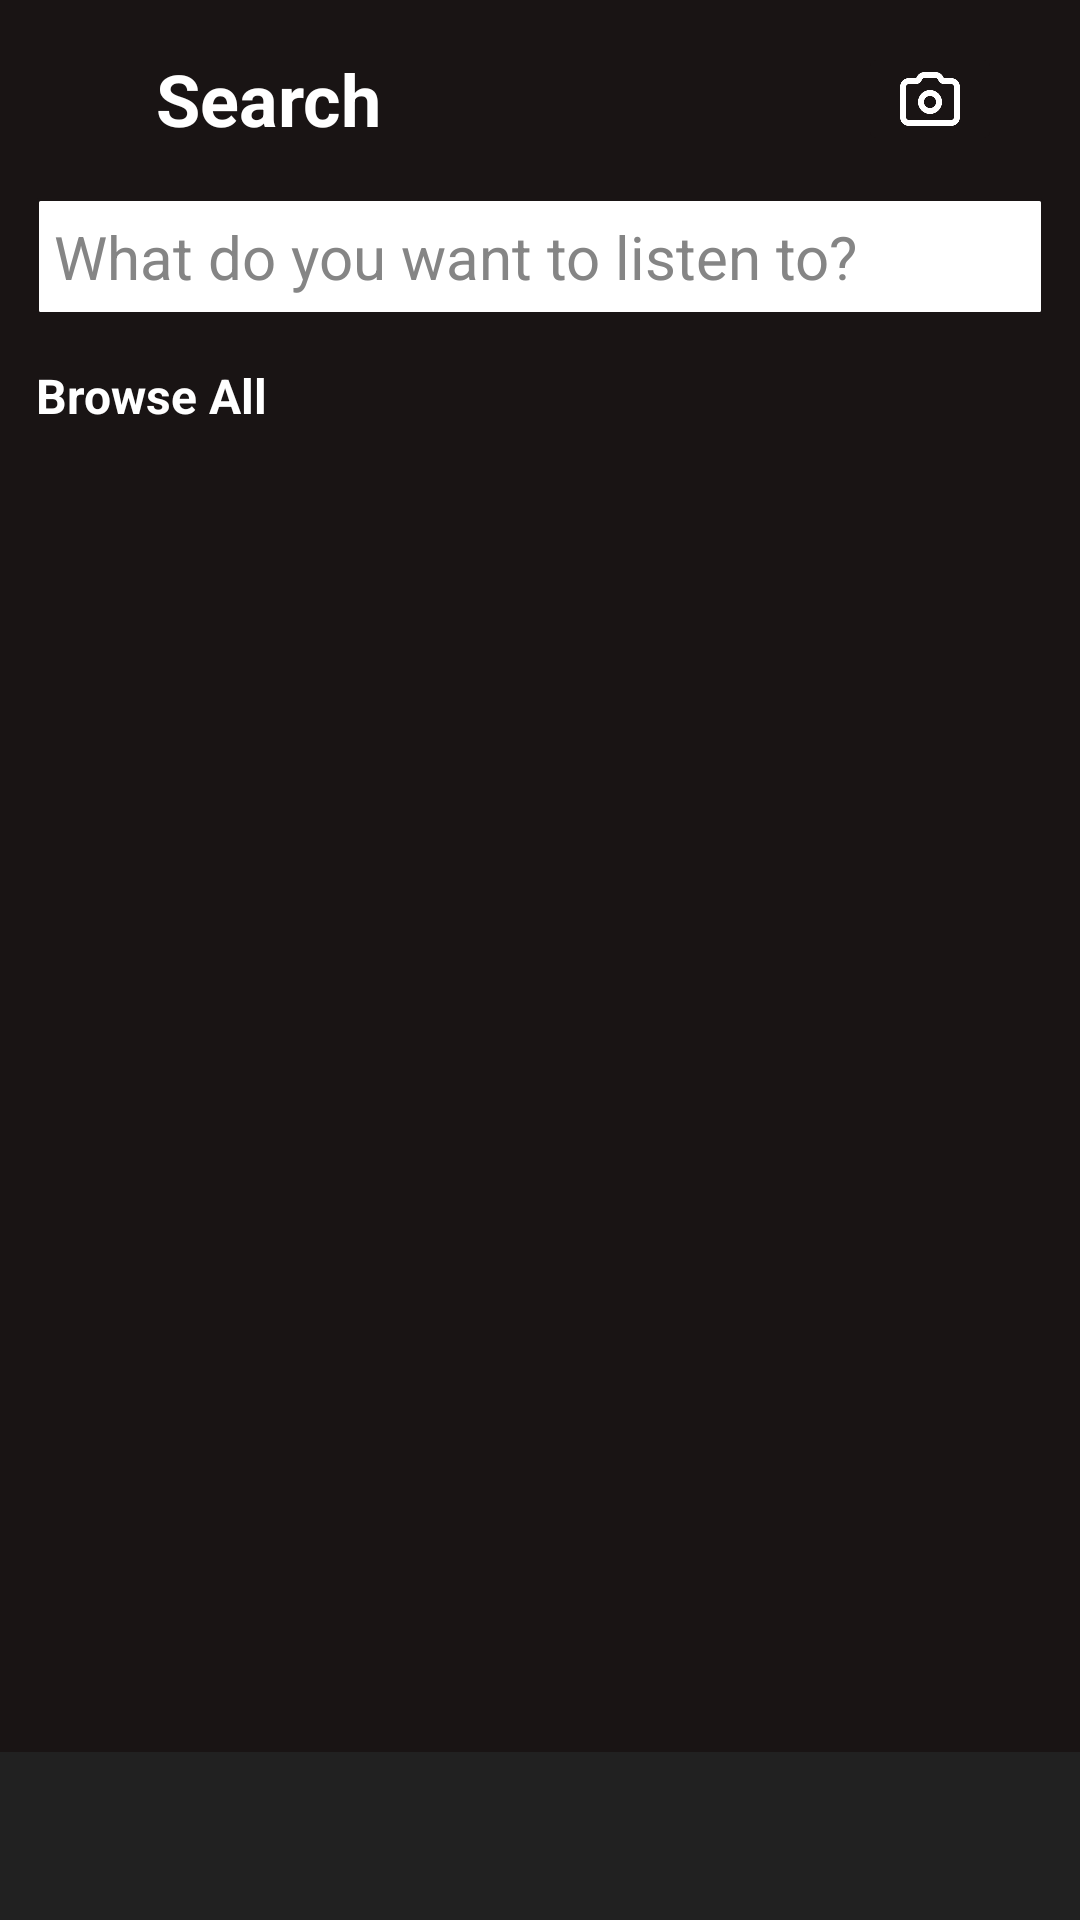

Icons on this 1080x1920 Android screen, each with its box as (x1, y1, x2, y2):
camera: (900, 72, 960, 126)
